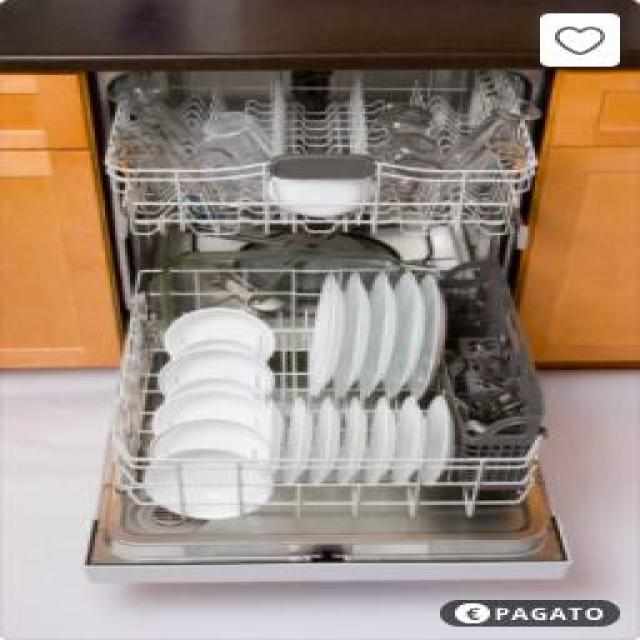dishwasher: (88, 68, 578, 585)
